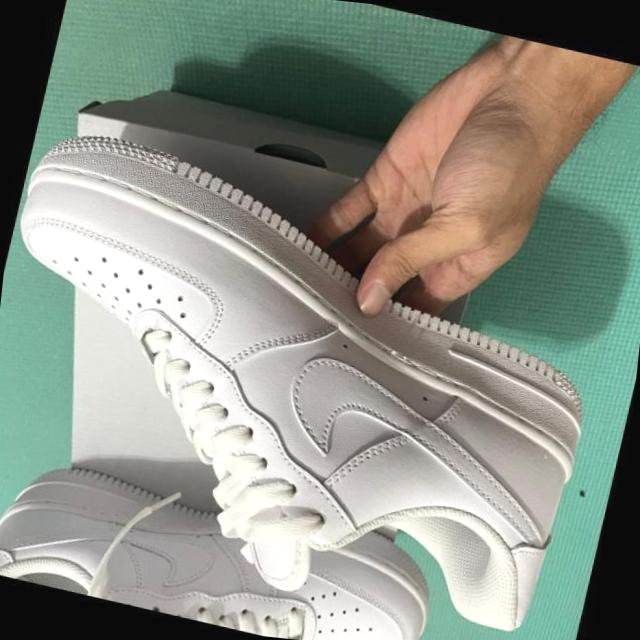nike_original_airforce: (0, 117, 640, 640), (0, 441, 451, 640)
